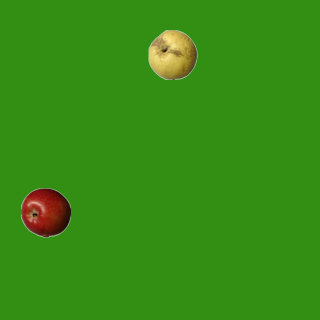Apple Braeburn: (20, 187, 70, 237)
Apple Golden 1: (147, 29, 197, 79)
